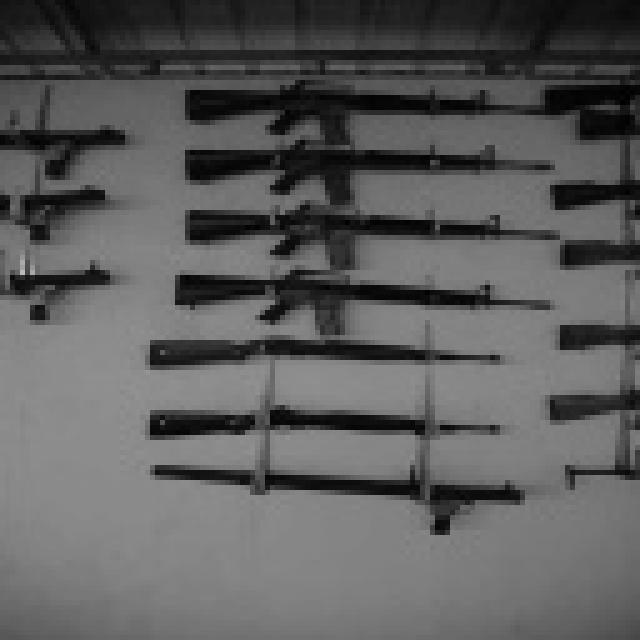Rifle: (96, 447, 554, 568), (168, 178, 592, 272), (151, 250, 569, 342), (149, 124, 576, 213), (122, 374, 529, 464), (99, 324, 556, 394), (155, 80, 590, 146), (0, 163, 135, 258), (0, 245, 121, 348), (0, 111, 156, 188), (526, 197, 640, 284), (520, 291, 640, 367), (513, 378, 640, 435), (510, 70, 640, 120), (538, 440, 640, 501), (557, 101, 640, 165), (520, 175, 640, 205)
